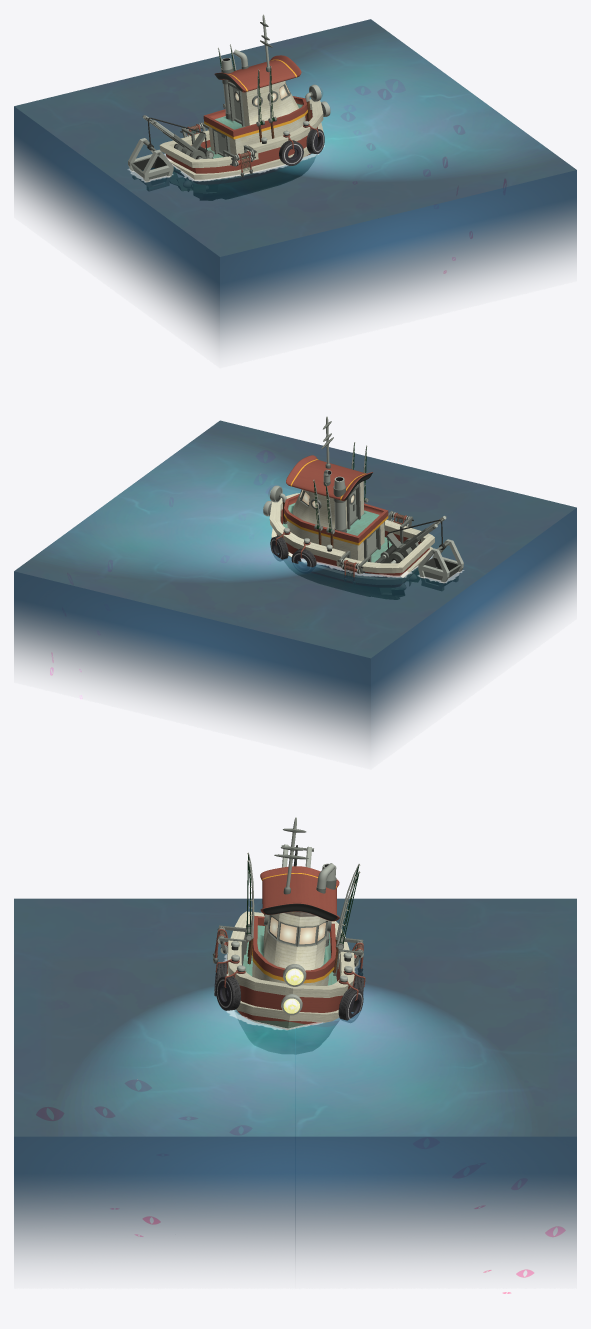
3 renders of one model, top to bottom at view 1: azimuth 30°, elevation 25°; view 2: azimuth 150°, elevation 25°; view 3: azimuth 270°, elevation 25°, orthographic. The views are drawn at different scales.
Parts seen in each view (by area): view 1: pPlane1, Boat, pCube2, pCube3, pCylinder26, pCylinder45, pPlane2; view 2: pPlane1, Boat, pCube2, pCube3, pCylinder26, pCylinder13, pCylinder47, pPlane2; view 3: pPlane1, Boat, pCube2, pCube3, pCylinder49, pCylinder51.
Part boxes in pixels (x1,y1,x2,y2): pPlane1: (14,19,576,347); Boat: (159,99,323,200); pCube2: (203,80,307,158); pCube3: (214,55,301,92); pCylinder26: (128,138,173,190); pCylinder45: (279,130,303,165); pPlane2: (128,145,324,182); pPlane1: (14,420,576,748); Boat: (269,493,434,599); pCube2: (282,481,403,563); pCube3: (286,455,372,500); pCylinder26: (418,539,463,590); pCylinder13: (333,476,346,532); pCylinder47: (291,538,316,573); pPlane2: (288,553,463,582); pPlane1: (14,898,576,1266); Boat: (226,911,354,1054); pCube2: (243,911,336,985); pCube3: (260,866,339,921); pCylinder49: (216,965,245,1010); pCylinder51: (338,975,363,1022).
Size of the model in its own units: 0.4008 by 0.2875 by 0.4008.
23 materials, 23 textured.
